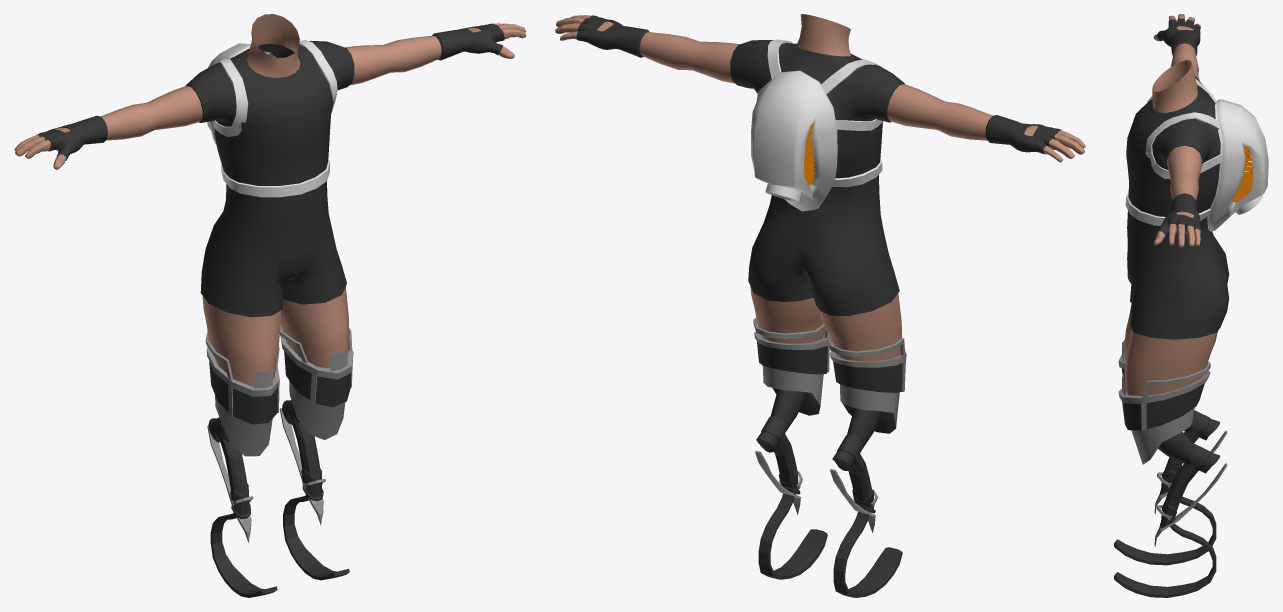
Rendered from Greyhound.fbx.
3 renders of one model, left to right at view 1: azimuth 30°, elevation 25°; view 2: azimuth 150°, elevation 25°; view 3: azimuth 270°, elevation 25°, orthographic. The views are drawn at different scales.
Visible parts, largest first — view 1: polySurface8; view 2: polySurface8; view 3: polySurface8.
Boxes of the visible parts, x1=… form: polySurface8: x1=14, y1=14, x2=526, y2=597; polySurface8: x1=555, y1=14, x2=1085, y2=597; polySurface8: x1=1114, y1=14, x2=1268, y2=597.
Bounding box in the file's own units: 143 × 150 × 40.76.
